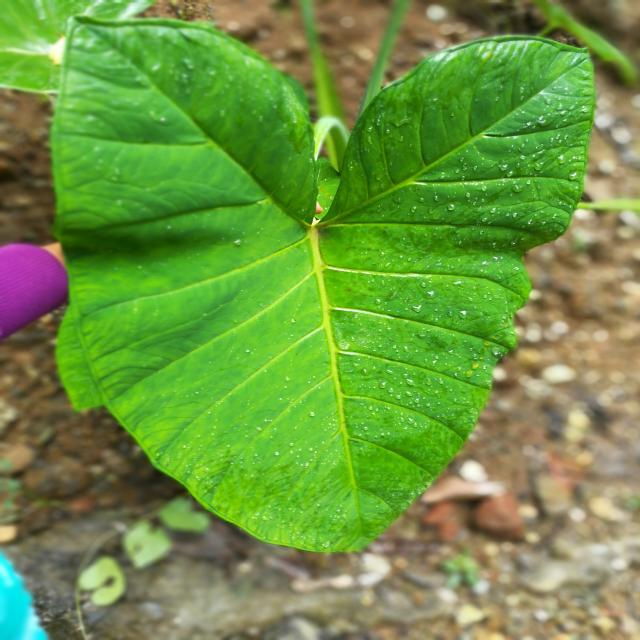leaf: (47, 13, 596, 554)
